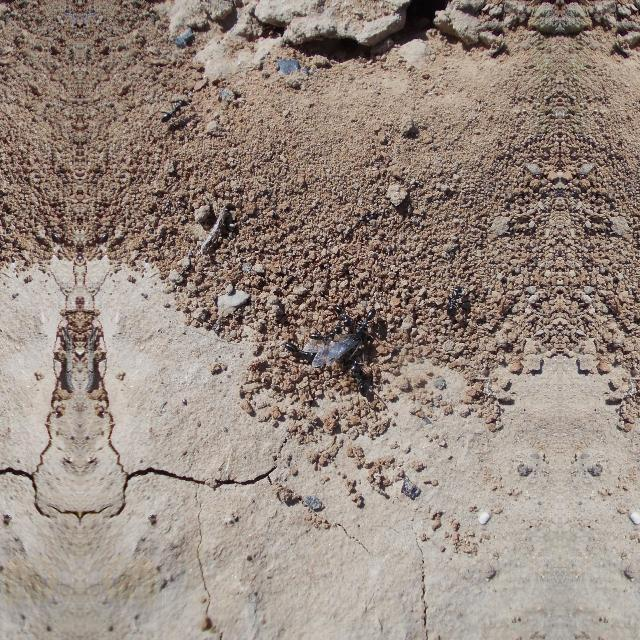Cataglyphis: (344, 355, 374, 403), (282, 336, 314, 366), (158, 96, 186, 125), (444, 282, 464, 318), (356, 306, 378, 332), (333, 302, 353, 328), (328, 322, 342, 340)
